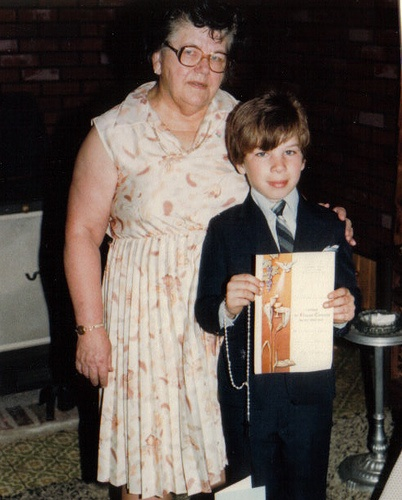head: (152, 8, 236, 119), (226, 91, 310, 201)
person: (61, 1, 249, 500), (193, 79, 364, 484), (245, 193, 321, 403)
